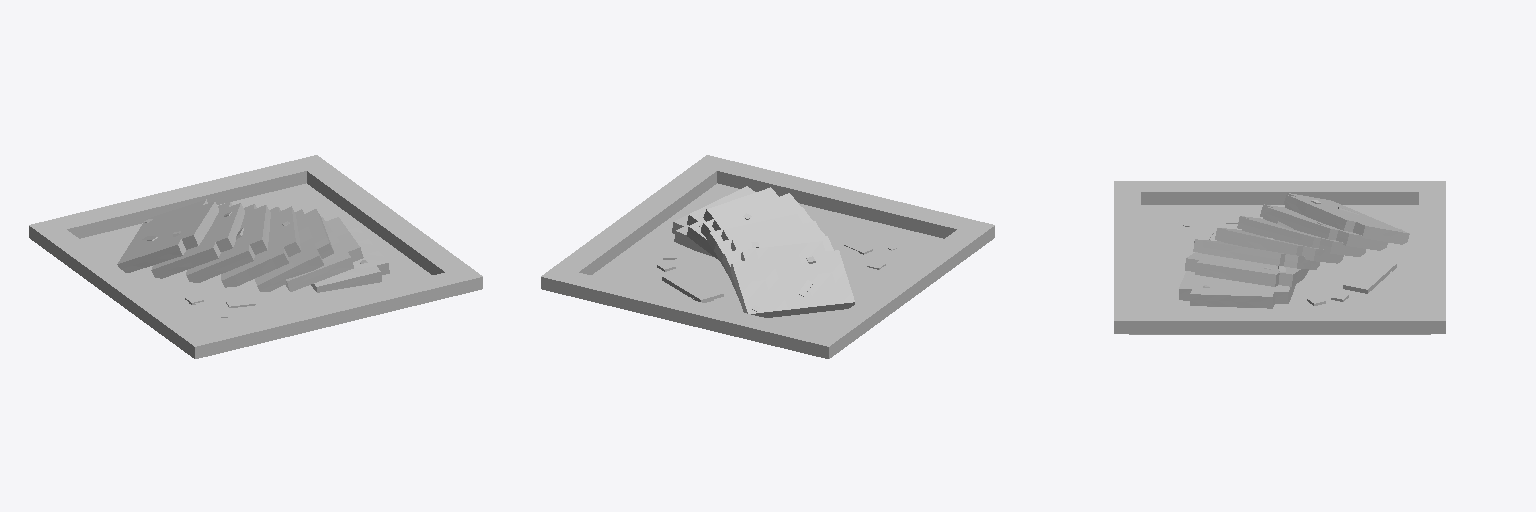
Rendered from meat0.obj.
3 renders of one model, left to right at view 1: azimuth 30°, elevation 25°; view 2: azimuth 150°, elevation 25°; view 3: azimuth 270°, elevation 25°, orthographic.
Parts seen in each view (by area): view 1: Box001, Plane004, Plane007, Plane008, Plane006, Plane005, Plane029, Plane009, Plane010; view 2: Box001, Plane004, Plane029, Plane005, Plane006, Plane008, Plane007, Plane022, Plane009, Plane010; view 3: Box001, Plane010, Plane004, Plane009, Plane029, Plane005, Plane006, Plane008, Plane007, Plane022.
Part boxes in pixels (bbox=[...]): Box001: bbox=[29, 155, 482, 358]; Plane004: bbox=[117, 199, 218, 272]; Plane007: bbox=[221, 206, 300, 287]; Plane008: bbox=[255, 209, 333, 291]; Plane006: bbox=[186, 204, 270, 282]; Plane005: bbox=[151, 202, 244, 278]; Plane029: bbox=[143, 266, 312, 304]; Plane009: bbox=[286, 217, 363, 291]; Plane010: bbox=[311, 227, 389, 292]; Box001: bbox=[541, 155, 994, 358]; Plane004: bbox=[731, 241, 854, 317]; Plane029: bbox=[670, 235, 885, 309]; Plane005: bbox=[722, 227, 833, 302]; Plane006: bbox=[714, 214, 823, 273]; Plane008: bbox=[701, 187, 824, 238]; Plane007: bbox=[707, 201, 812, 250]; Plane022: bbox=[662, 270, 723, 302]; Plane009: bbox=[687, 186, 755, 260]; Plane010: bbox=[672, 210, 713, 256]; Box001: bbox=[1114, 181, 1445, 334]; Plane010: bbox=[1179, 271, 1295, 308]; Plane004: bbox=[1283, 193, 1409, 244]; Plane009: bbox=[1185, 252, 1308, 286]; Plane029: bbox=[1192, 214, 1398, 297]; Plane005: bbox=[1260, 204, 1387, 250]; Plane006: bbox=[1237, 216, 1365, 256]; Plane008: bbox=[1193, 239, 1319, 269]; Plane007: bbox=[1215, 228, 1343, 263]; Plane022: bbox=[1343, 258, 1396, 293].
Bounding box in the file's own units: 0.744 × 0.1586 × 0.744.